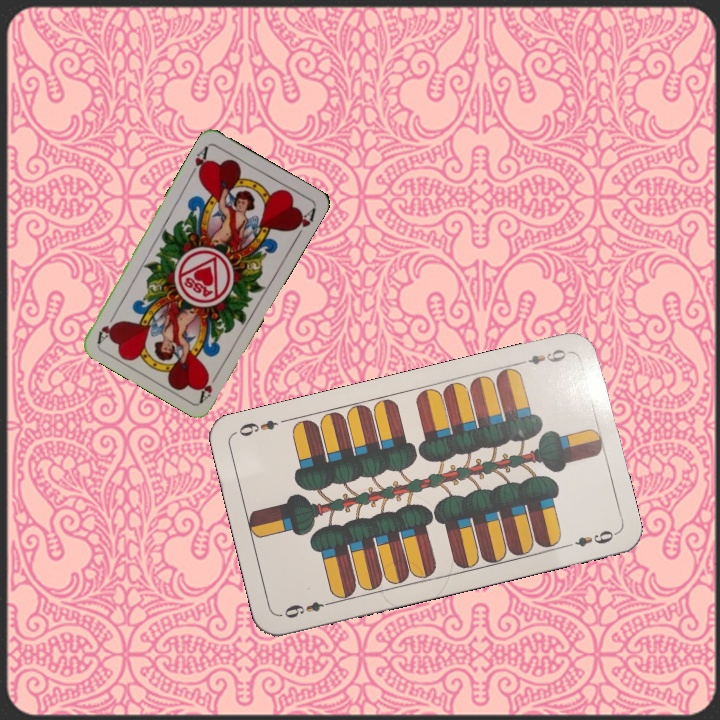E9: (277, 597, 335, 621), (514, 345, 569, 368)
HA: (195, 366, 222, 404), (186, 142, 211, 180)
